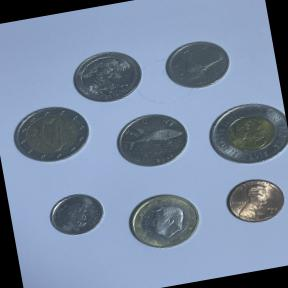1 Euro-B: (120, 181, 216, 259)
2 Euro-B: (7, 96, 96, 169)
Canada-10cent-B: (40, 184, 110, 243)
Canada-2Dollar-B: (200, 92, 288, 173)
Croatia-2Kune-B: (110, 102, 198, 175)
US-1cent-B: (215, 167, 288, 231)
US-25cent-B: (66, 43, 148, 110)
